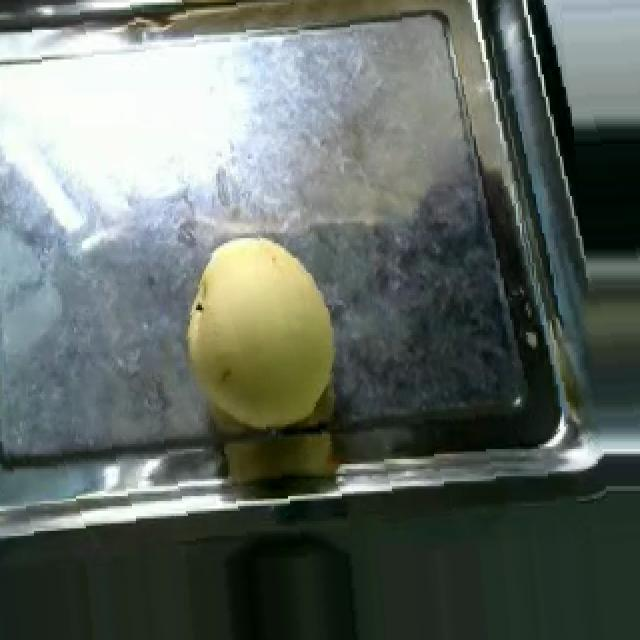Fruit: (170, 221, 356, 439)
